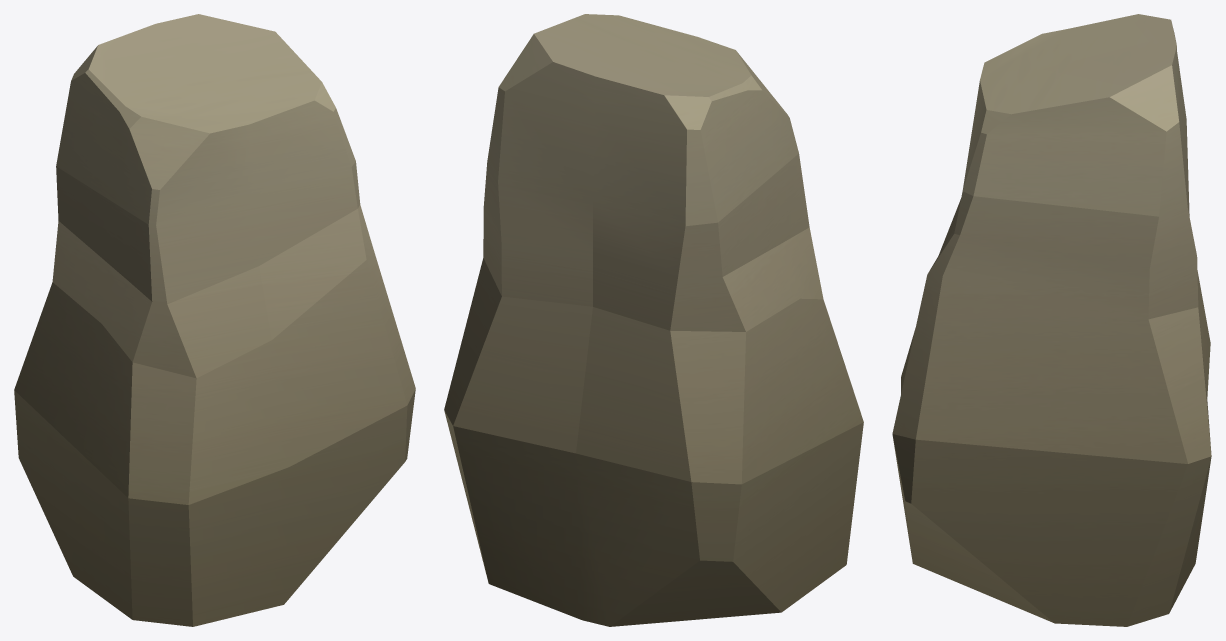
The model's file is Rock08.fbx.
The picture shows the model from 3 angles, left to right: view 1: azimuth 30°, elevation 25°; view 2: azimuth 150°, elevation 25°; view 3: azimuth 270°, elevation 25°; orthographic projection. The views are drawn at different scales.
Visible parts, largest first — view 1: Rock08; view 2: Rock08; view 3: Rock08.
Boxes of the visible parts, <box> form: Rock08: <box>14,14,415,626</box>; Rock08: <box>444,14,863,626</box>; Rock08: <box>892,14,1211,626</box>.
Bounding box in the file's own units: 351 × 602 × 336.
